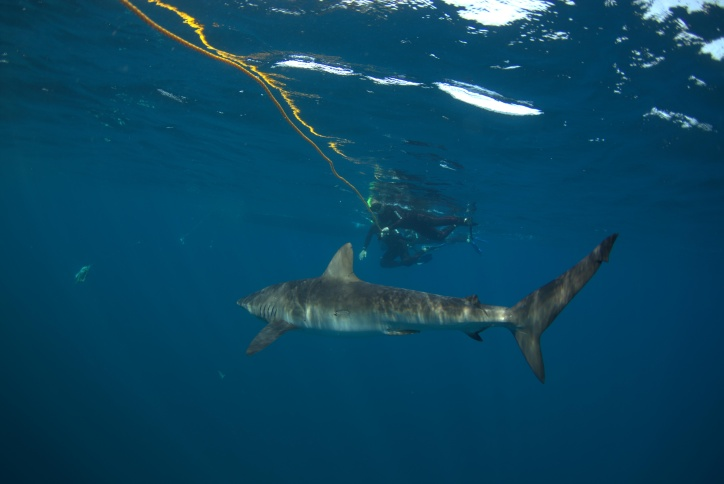Sedoso: (207, 232, 623, 395)
